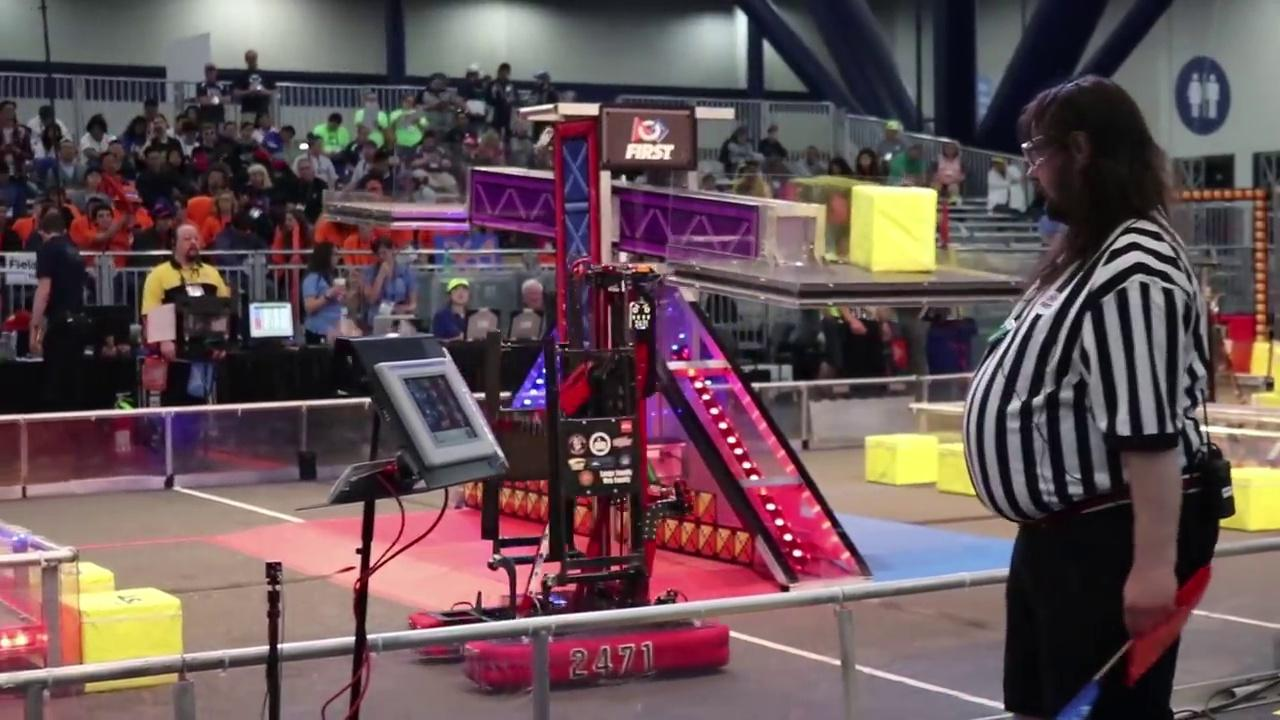robot: (408, 262, 733, 693)
